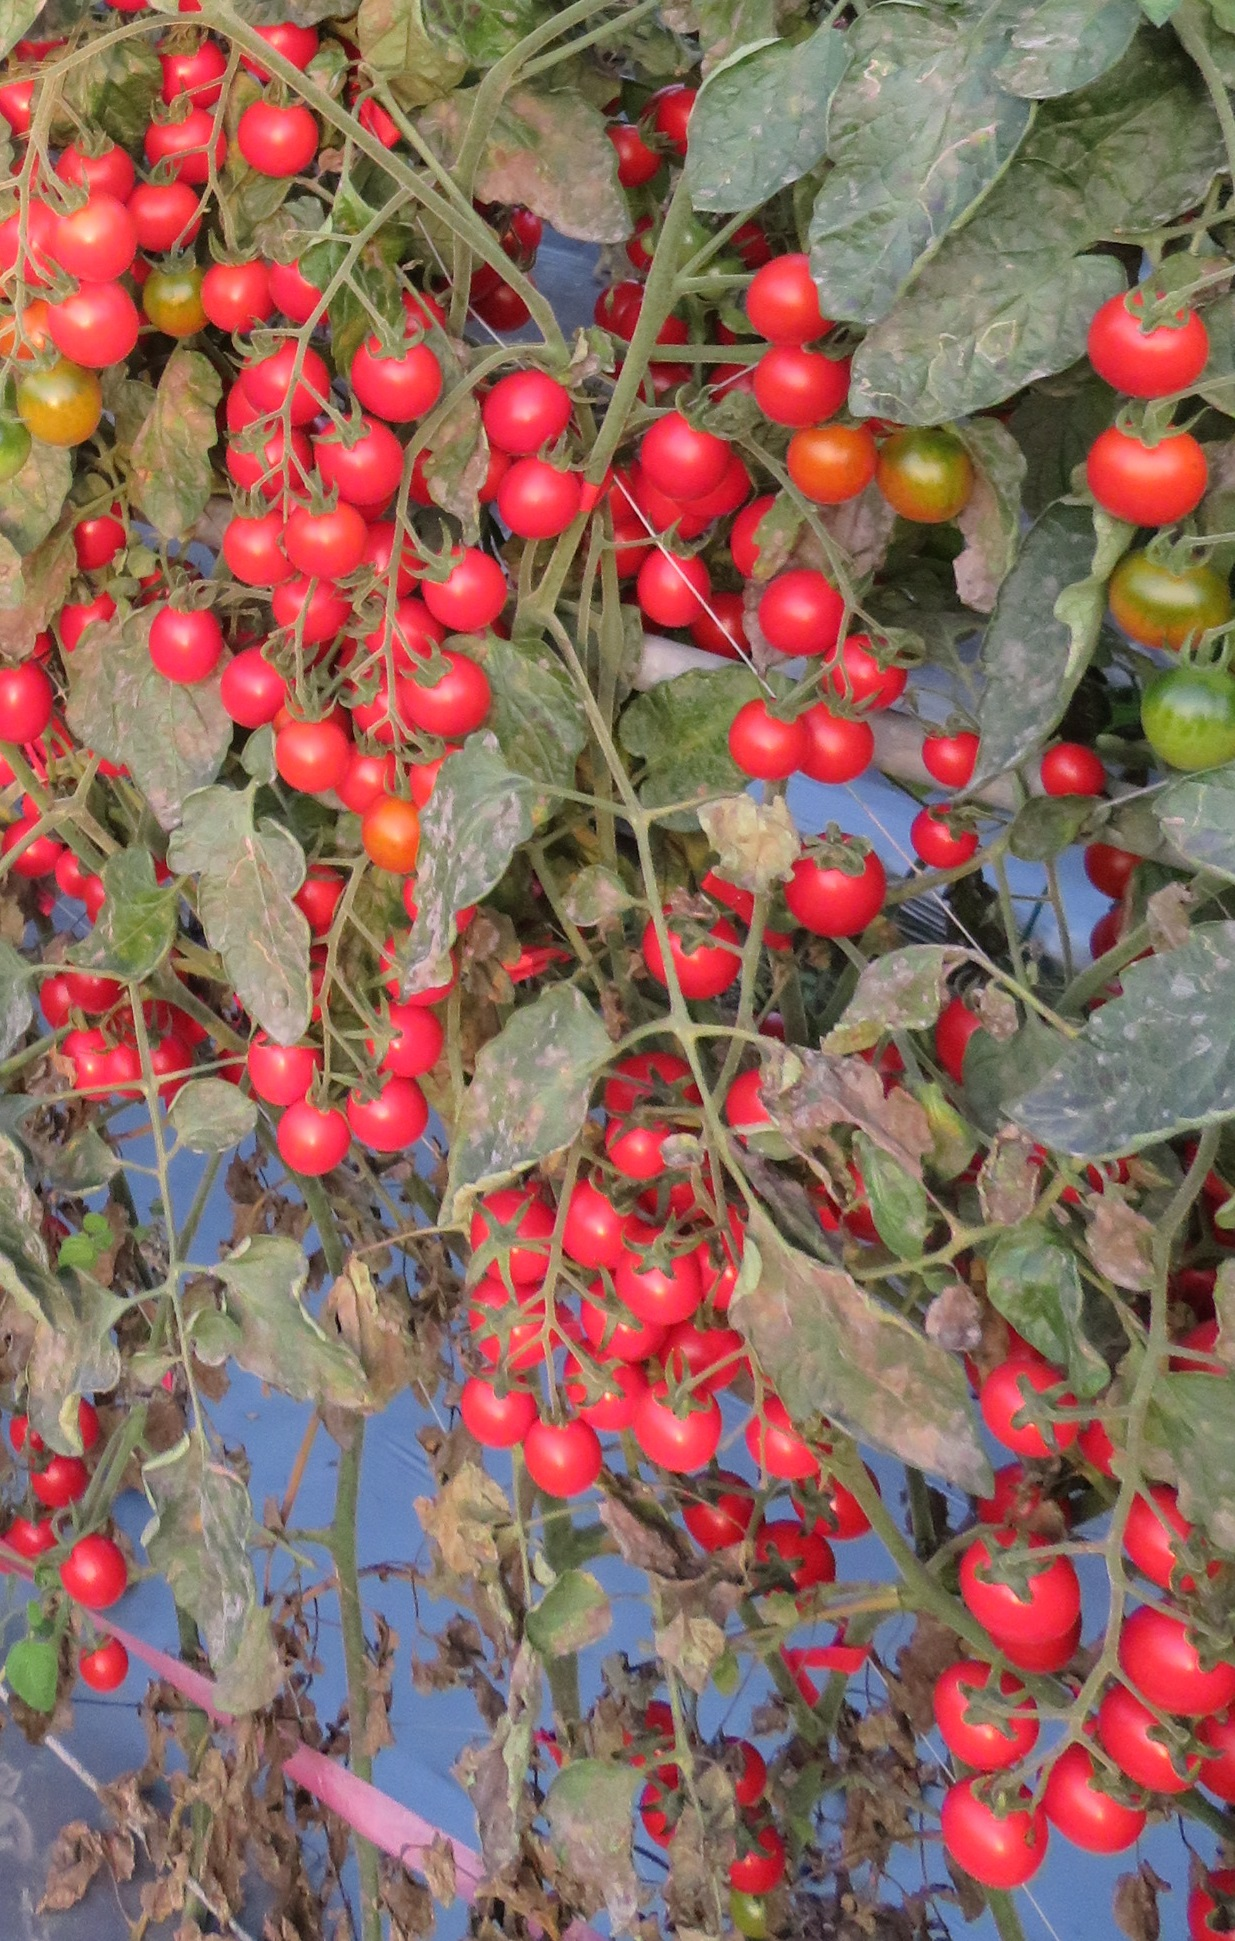green: (1105, 552, 1234, 654), (17, 366, 122, 464), (1137, 668, 1235, 764), (879, 441, 965, 522), (149, 257, 195, 328)
orange: (763, 426, 873, 504), (361, 798, 414, 870)
red: (1075, 417, 1210, 528), (929, 1778, 1061, 1889), (1075, 290, 1207, 388), (959, 1532, 1079, 1635), (1111, 1609, 1235, 1705), (931, 1657, 1038, 1764), (970, 1362, 1089, 1456), (1081, 1696, 1211, 1778), (635, 905, 748, 996), (743, 342, 859, 426), (40, 267, 137, 366), (347, 320, 448, 415), (627, 1374, 714, 1480), (1038, 1759, 1139, 1850), (308, 407, 407, 499), (785, 852, 891, 934), (717, 696, 811, 788), (799, 705, 886, 804), (516, 1416, 608, 1508), (263, 1102, 361, 1188), (47, 199, 144, 280), (482, 376, 577, 458), (361, 987, 451, 1072), (747, 262, 828, 357), (761, 567, 849, 654), (269, 719, 359, 802), (617, 1234, 702, 1321), (272, 489, 361, 572), (201, 637, 274, 736), (403, 666, 495, 744), (456, 1378, 539, 1456), (143, 604, 226, 682), (419, 562, 519, 625), (492, 458, 574, 536), (639, 415, 723, 489), (898, 806, 987, 876), (342, 1089, 431, 1156), (741, 1396, 806, 1484), (192, 260, 269, 334), (245, 347, 331, 412), (124, 180, 202, 252), (639, 545, 709, 622), (915, 720, 985, 789), (729, 1828, 791, 1904), (235, 108, 307, 173), (240, 1030, 318, 1089), (59, 1528, 119, 1601), (1, 661, 58, 736), (211, 522, 272, 589), (273, 574, 337, 630), (1033, 746, 1101, 796), (86, 1634, 137, 1702)
